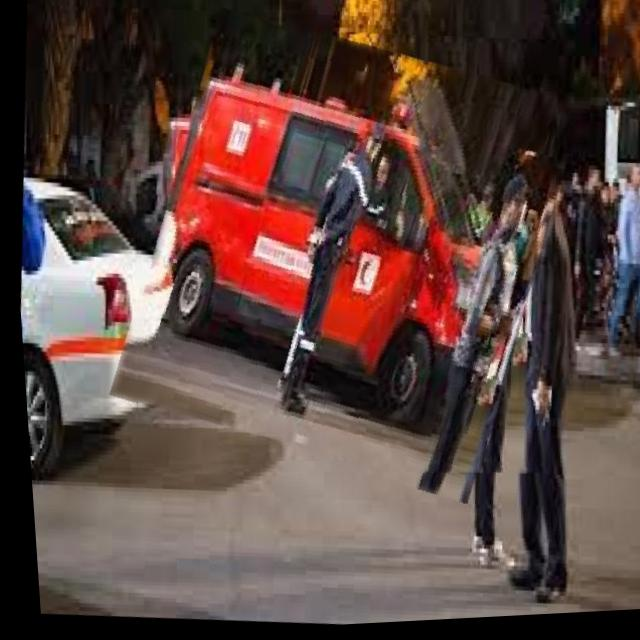ambulance: (100, 9, 580, 508)
